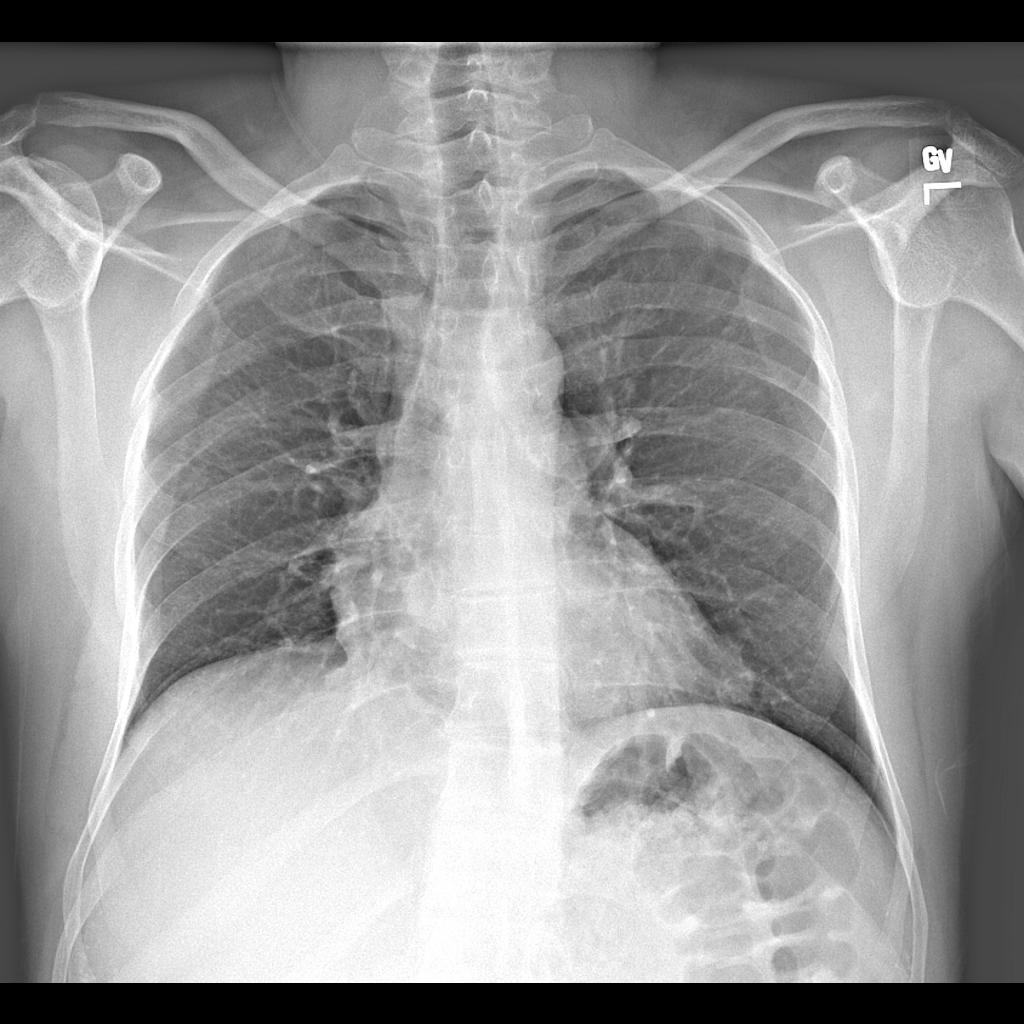Nodule: (406, 572, 461, 639)
